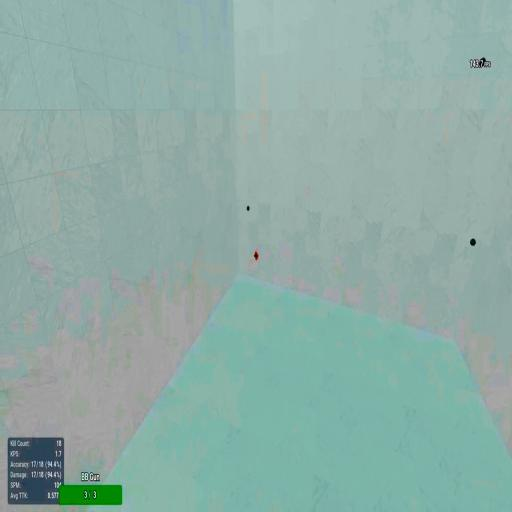Crosshair: (253, 252, 259, 261)
Target: (469, 236, 477, 248), (480, 56, 486, 68), (247, 206, 250, 212)
